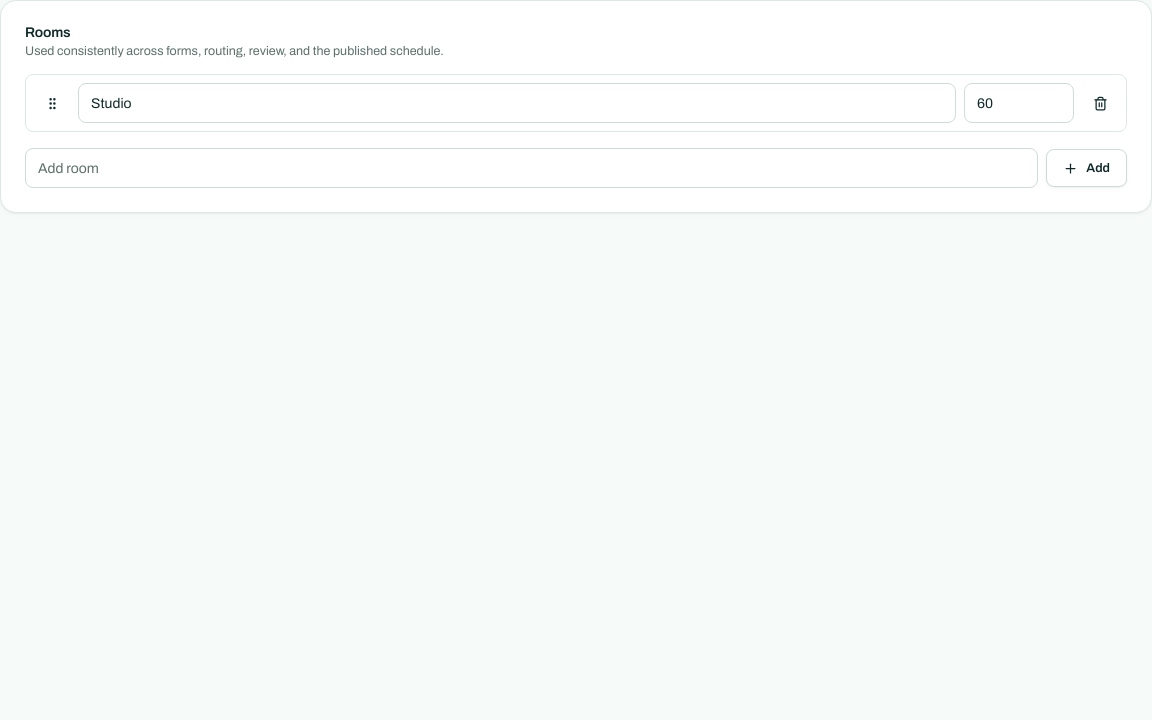
Test: vocabulary delete confirmation copy › says the count could not be read rather than implying there is nothing to lose
This screenshot has width=1152, height=720.
Click the button named "Remove Studio" at (1100, 103), box [1082,85,1118,121]
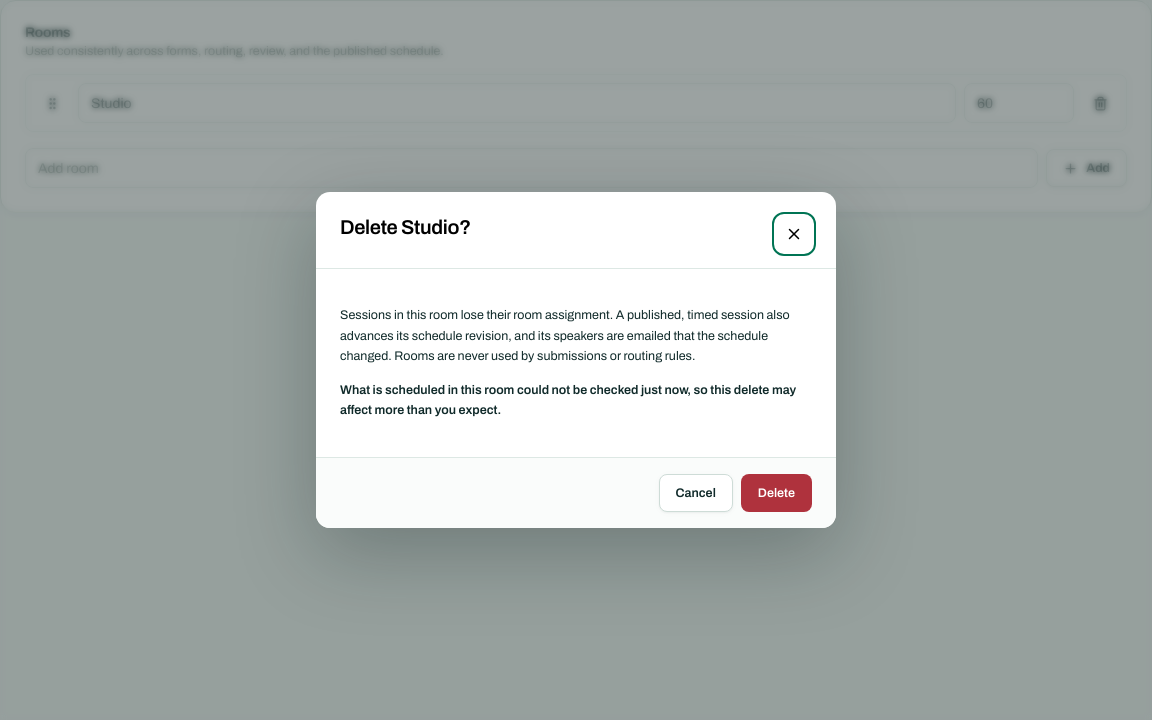
Expected: the element with class "long-copy" shows "could not be checked", [340,383,796,417]
